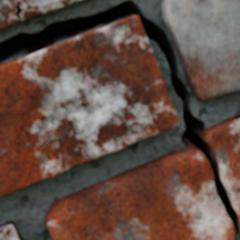brick: (0, 15, 179, 198), (161, 0, 239, 101), (19, 0, 85, 22), (0, 0, 20, 30), (0, 220, 23, 239)
broken_brick: (46, 145, 234, 239), (203, 114, 239, 216)
crack: (0, 0, 239, 237), (17, 0, 22, 22)
